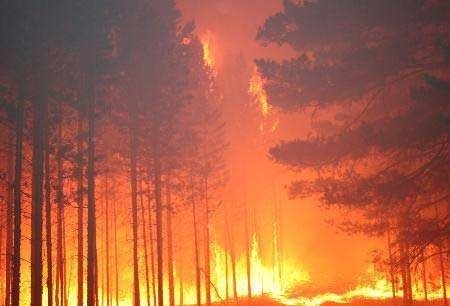fire: (184, 25, 220, 74), (247, 63, 274, 119)
